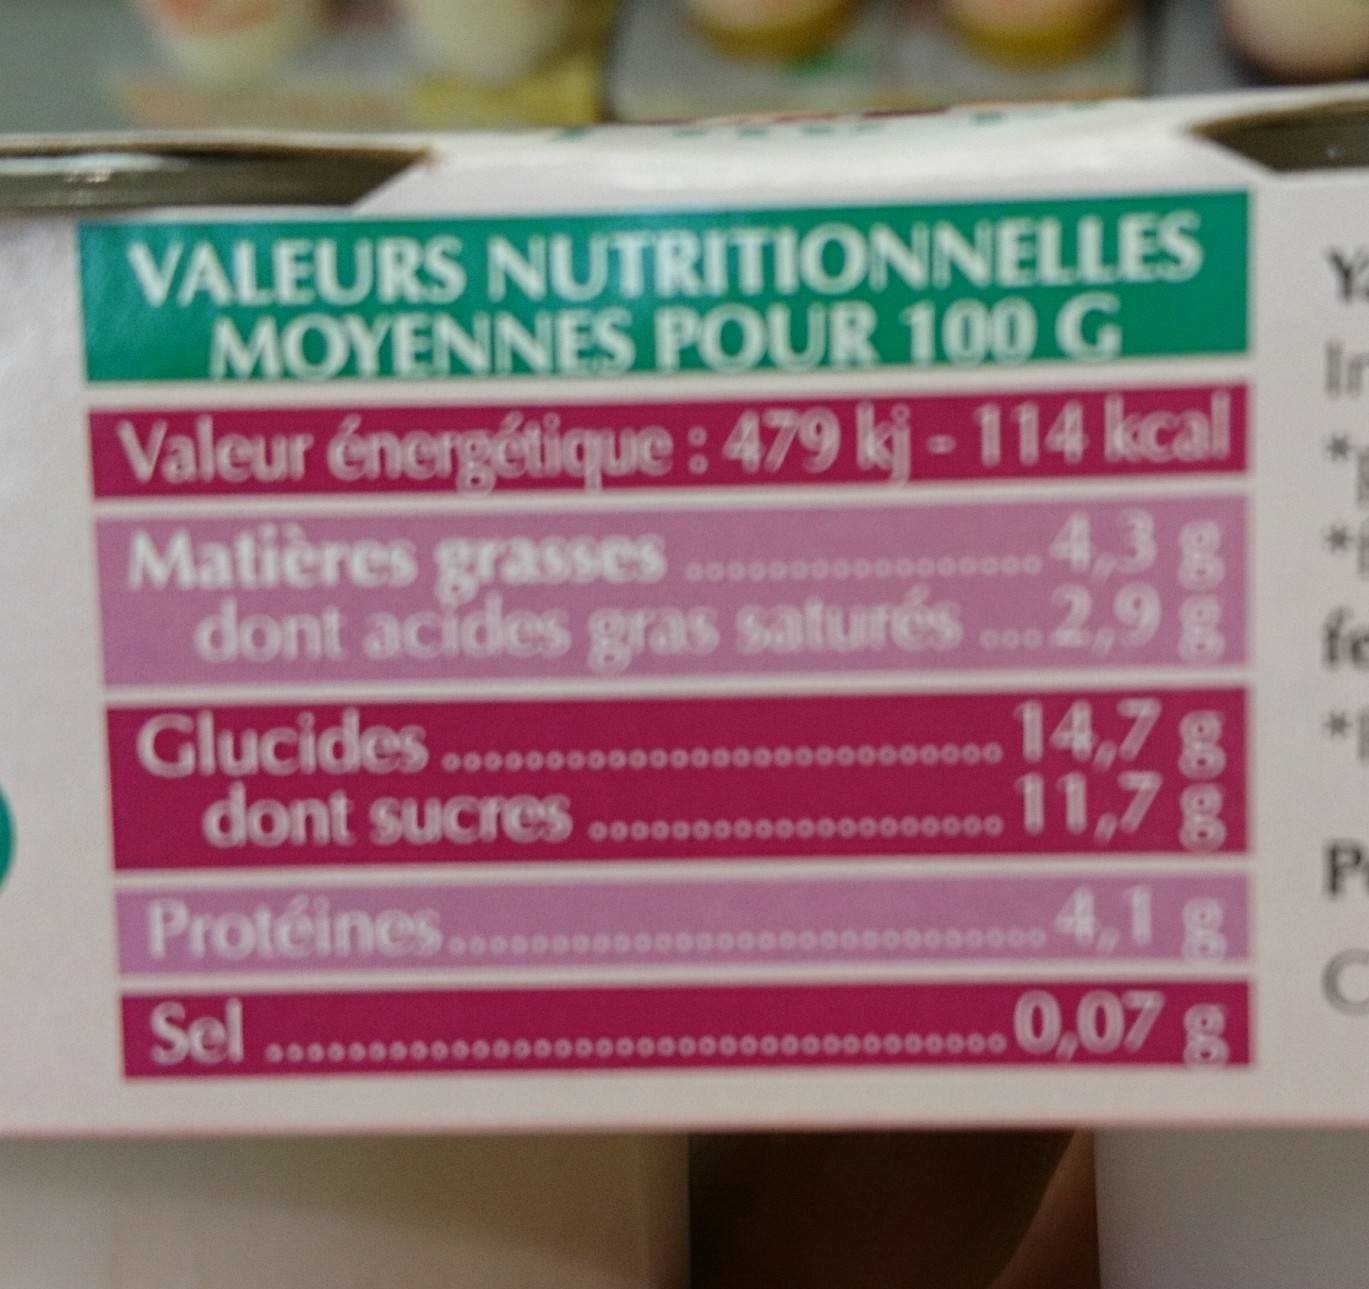column: (116, 512, 969, 1067), (1006, 495, 1235, 1065)
table: (75, 214, 1255, 1090)
